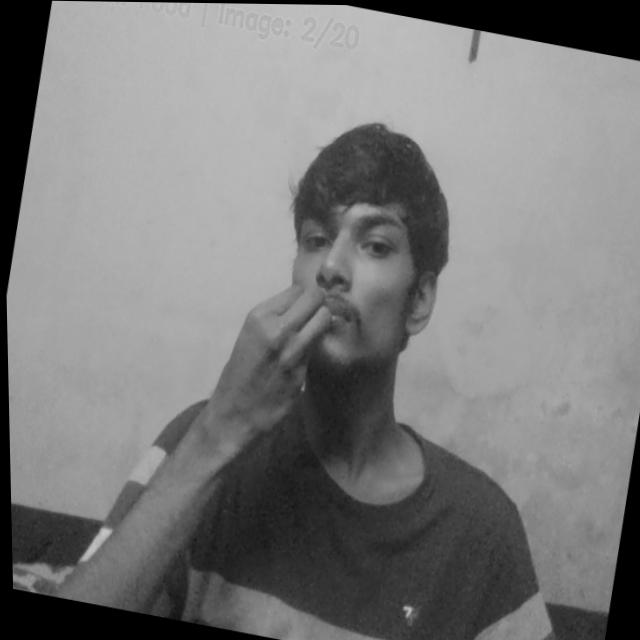Food: (205, 269, 344, 443)
